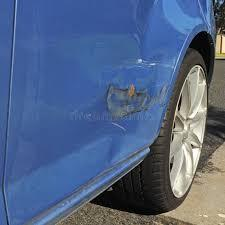dent: (100, 75, 153, 124)
